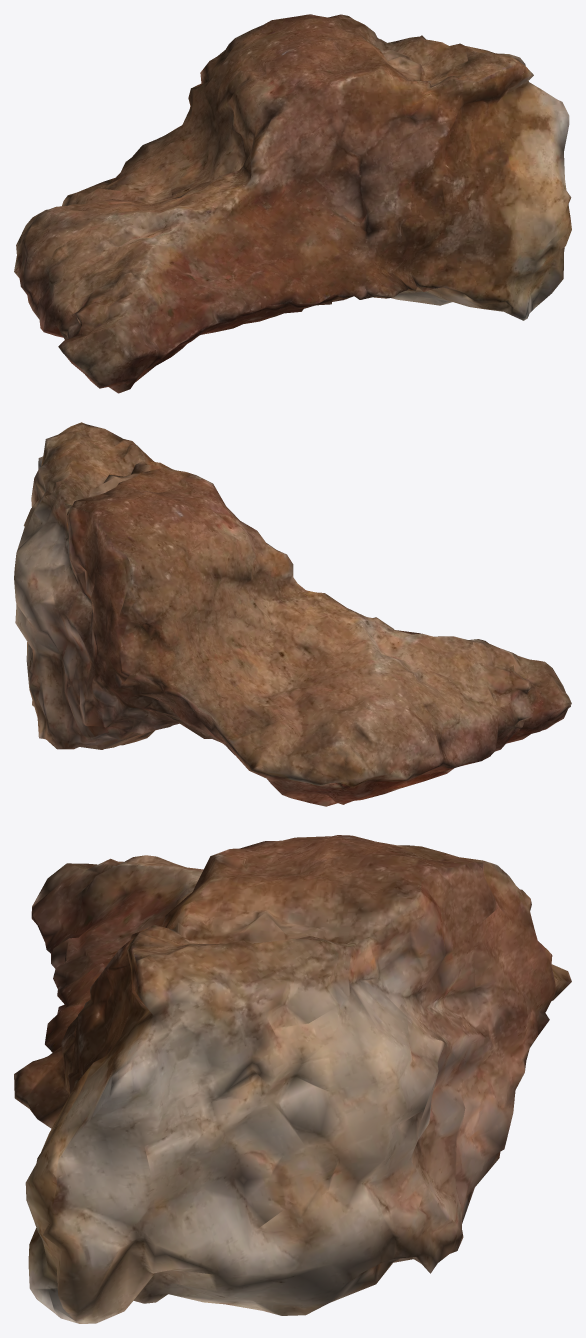
File: stone_01_lod.glb
3 views of the same model, one above another, from view 1: azimuth 30°, elevation 25°; view 2: azimuth 150°, elevation 25°; view 3: azimuth 270°, elevation 25° (orthographic). The views are drawn at different scales.
Parts seen in each view (by area): view 1: stone_01; view 2: stone_01; view 3: stone_01.
Boxes of the visible parts, box(x1,y1,x2,y2) form: stone_01: box(14, 14, 571, 393); stone_01: box(14, 422, 571, 806); stone_01: box(14, 835, 571, 1323).
Size of the model in its own units: 0.1464 by 0.0714 by 0.089.
Materials: 1 (1 with a texture image).
